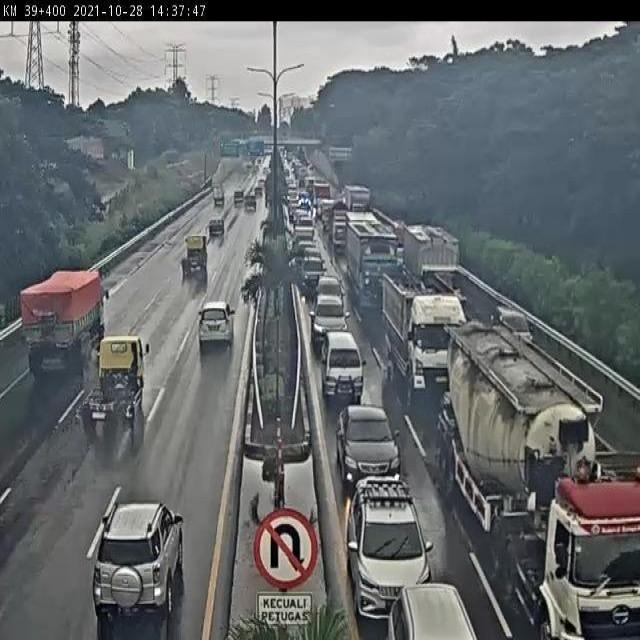big truck: (494, 412, 634, 640), (31, 255, 122, 360), (399, 282, 469, 398), (413, 236, 478, 319), (347, 231, 400, 325)
car: (108, 487, 190, 624), (359, 464, 432, 615), (339, 401, 404, 499), (322, 323, 378, 416), (491, 293, 546, 352), (314, 291, 348, 361), (198, 294, 237, 354), (316, 268, 344, 309)
small truck: (89, 326, 158, 434), (183, 230, 217, 278)
